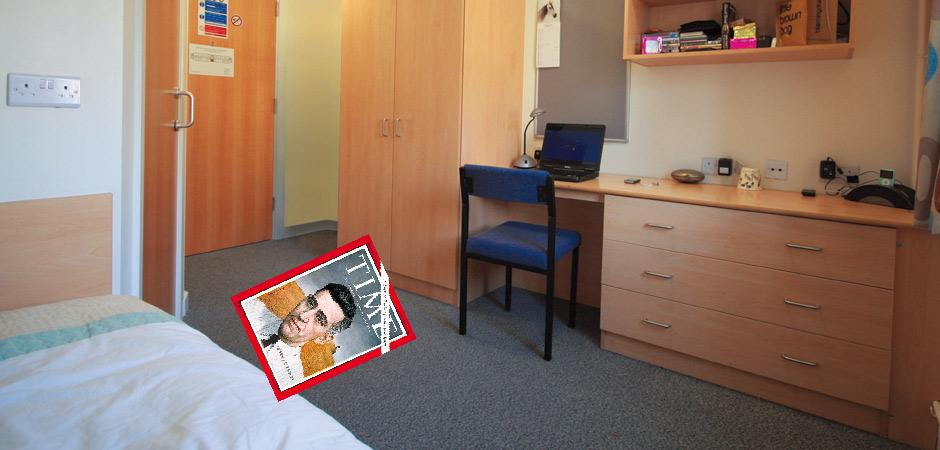times: (228, 225, 420, 404)
